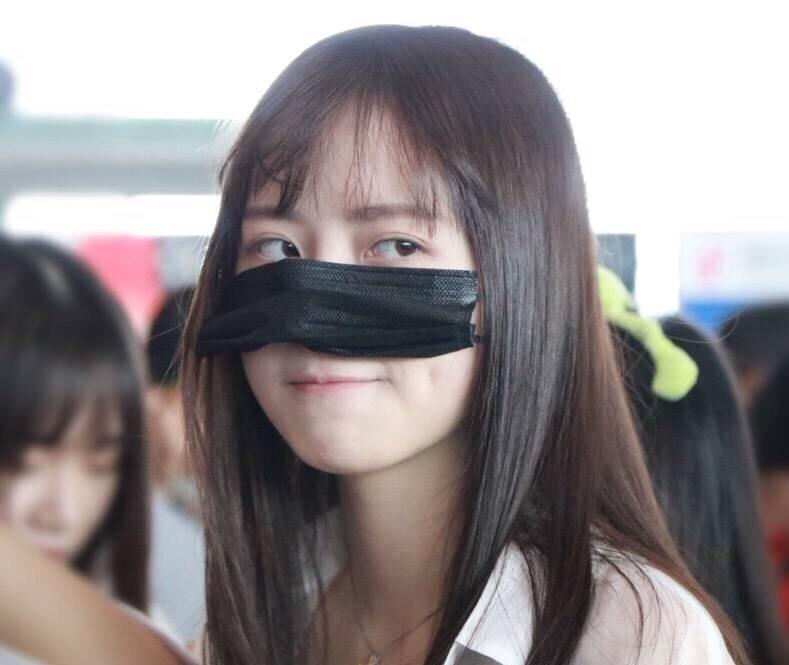NONE: (1, 423, 137, 583)
WRONG: (218, 157, 533, 472)
